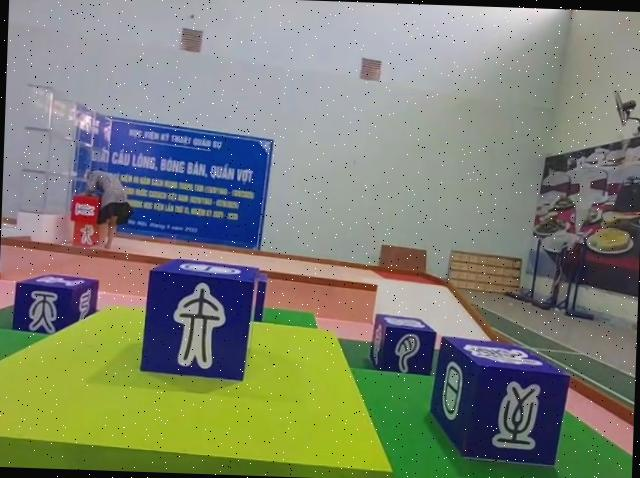R2 Fake Blue: (429, 339, 569, 468), (139, 257, 262, 382), (12, 273, 99, 337), (368, 314, 438, 376)
